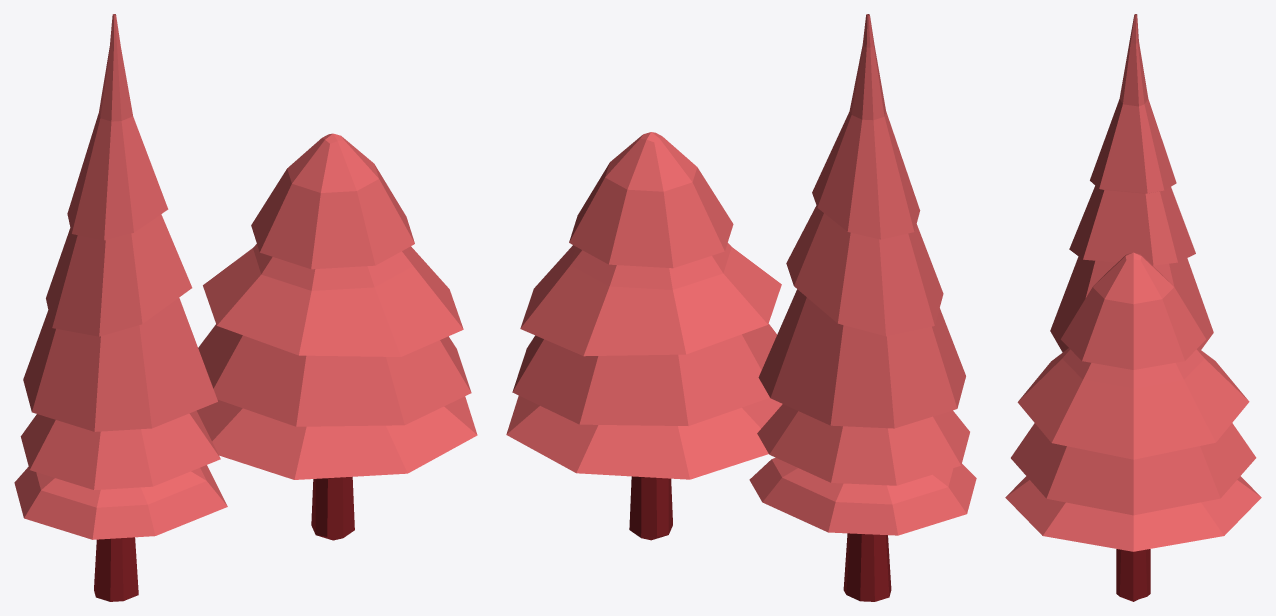
The model's file is pine Trees Lowpoly.fbx.
The picture shows the model from 3 angles, left to right: view 1: azimuth 30°, elevation 25°; view 2: azimuth 150°, elevation 25°; view 3: azimuth 270°, elevation 25°; orthographic projection. The views are drawn at different scales.
Visible parts, largest first — view 1: Cube.001, Cube; view 2: Cube.001, Cube; view 3: Cube.001, Cube.
Boxes of the visible parts, <box> form: Cube.001: <box>196,133,477,540</box>; Cube: <box>14,14,227,601</box>; Cube.001: <box>506,132,782,540</box>; Cube: <box>749,14,976,601</box>; Cube.001: <box>1005,252,1261,601</box>; Cube: <box>1050,14,1213,352</box>.
Bounding box in the file's own units: 276 × 345 × 162.
